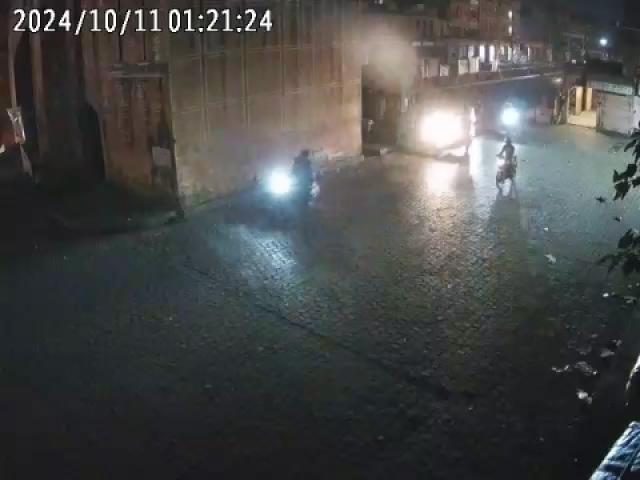motorbike-rider: (495, 134, 519, 191)
